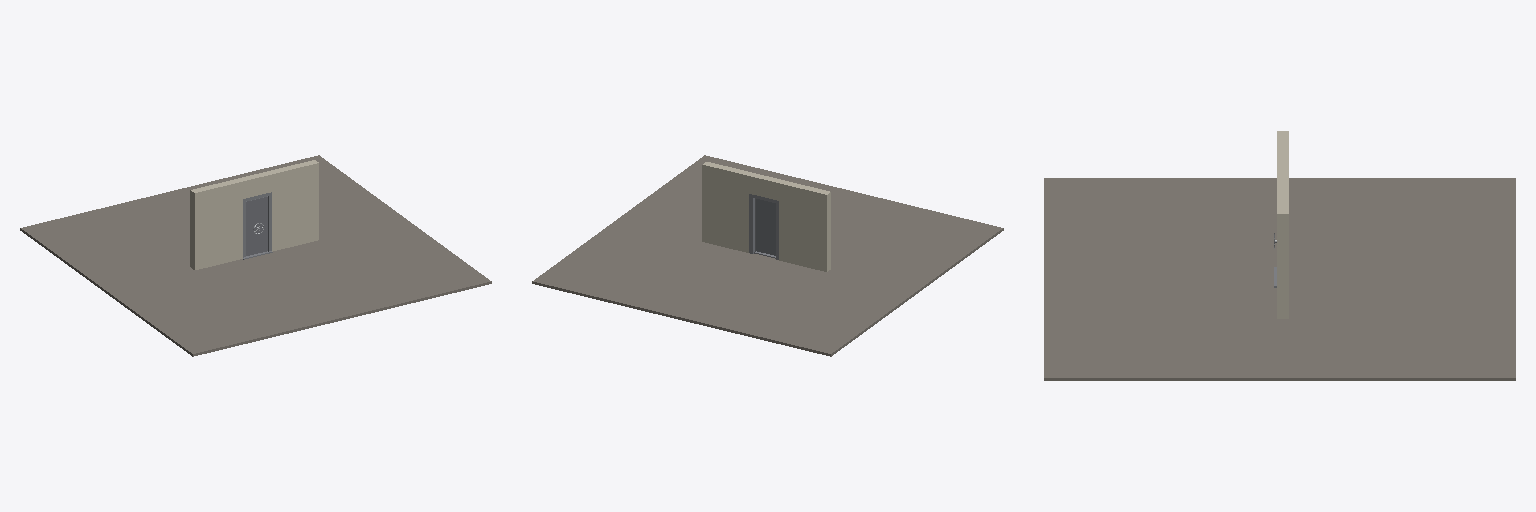
robot.urdf — db0426_vault_minimal:
<?xml version="1.0" ?>
<robot xmlns:doorbench="https://github.com/adamraudonis/DoorBench/schema/urdf-ext" name="db0426_vault_minimal">
  <link name="world_env">
    <visual name="floor_vis">
      <origin xyz="0 0 -0.05" rpy="0 0 0"/>
      <geometry>
        <box size="12 12 0.1"/>
      </geometry>
      <material name="mat_floor"/>
    </visual>
    <collision name="floor_col">
      <origin xyz="0 0 -0.05" rpy="0 0 0"/>
      <geometry>
        <box size="12 12 0.1"/>
      </geometry>
    </collision>
    <visual name="wall_left_vis">
      <origin xyz="-1.541 0.08 1.485" rpy="0 0 0"/>
      <geometry>
        <box size="1.918 0.3 2.97"/>
      </geometry>
      <material name="mat_wall"/>
    </visual>
    <collision name="wall_left_col">
      <origin xyz="-1.541 0.08 1.485" rpy="0 0 0"/>
      <geometry>
        <box size="1.918 0.3 2.97"/>
      </geometry>
    </collision>
    <visual name="wall_right_vis">
      <origin xyz="1.556 0.08 1.485" rpy="0 0 0"/>
      <geometry>
        <box size="1.888 0.3 2.97"/>
      </geometry>
      <material name="mat_wall"/>
    </visual>
    <collision name="wall_right_col">
      <origin xyz="1.556 0.08 1.485" rpy="0 0 0"/>
      <geometry>
        <box size="1.888 0.3 2.97"/>
      </geometry>
    </collision>
    <visual name="wall_header_vis">
      <origin xyz="0.015 0.08 2.645" rpy="0 0 0"/>
      <geometry>
        <box size="1.194 0.3 0.65"/>
      </geometry>
      <material name="mat_wall"/>
    </visual>
    <collision name="wall_header_col">
      <origin xyz="0.015 0.08 2.645" rpy="0 0 0"/>
      <geometry>
        <box size="1.194 0.3 0.65"/>
      </geometry>
    </collision>
    <visual name="jamb_hinge_vis">
      <origin xyz="-0.522 0.08 1.085" rpy="0 0 0"/>
      <geometry>
        <box size="0.12 0.3 2.17"/>
      </geometry>
      <material name="mat_frame"/>
    </visual>
    <collision name="jamb_hinge_col">
      <origin xyz="-0.522 0.08 1.085" rpy="0 0 0"/>
      <geometry>
        <box size="0.12 0.3 2.17"/>
      </geometry>
    </collision>
    <visual name="strike_312_wall_n_vis">
      <origin xyz="0.537 0.124 0.3125" rpy="0 0 0"/>
      <geometry>
        <box size="0.15 0.212 0.042"/>
      </geometry>
      <material name="mat_frame"/>
    </visual>
    <collision name="strike_312_wall_n_col">
      <origin xyz="0.537 0.124 0.3125" rpy="0 0 0"/>
      <geometry>
        <box size="0.15 0.212 0.042"/>
      </geometry>
    </collision>
    <visual name="strike_312_wall_p_vis">
      <origin xyz="0.537 -0.044 0.3125" rpy="0 0 0"/>
      <geometry>
        <box size="0.15 0.052 0.042"/>
      </geometry>
      <material name="mat_frame"/>
    </visual>
    <collision name="strike_312_wall_p_col">
      <origin xyz="0.537 -0.044 0.3125" rpy="0 0 0"/>
      <geometry>
        <box size="0.15 0.052 0.042"/>
      </geometry>
    </collision>
    <visual name="strike_312_back_vis">
      <origin xyz="0.567 0 0.3125" rpy="0 0 0"/>
      <geometry>
        <box size="0.09 0.036 0.042"/>
      </geometry>
      <material name="mat_frame"/>
    </visual>
    <collision name="strike_312_back_col">
      <origin xyz="0.567 0 0.3125" rpy="0 0 0"/>
      <geometry>
        <box size="0.09 0.036 0.042"/>
      </geometry>
    </collision>
    <visual name="strike_838_wall_n_vis">
      <origin xyz="0.537 0.124 0.8375" rpy="0 0 0"/>
      <geometry>
        <box size="0.15 0.212 0.042"/>
      </geometry>
      <material name="mat_frame"/>
    </visual>
    <collision name="strike_838_wall_n_col">
      <origin xyz="0.537 0.124 0.8375" rpy="0 0 0"/>
      <geometry>
        <box size="0.15 0.212 0.042"/>
      </geometry>
    </collision>
    <visual name="strike_838_wall_p_vis">
      <origin xyz="0.537 -0.044 0.8375" rpy="0 0 0"/>
      <geometry>
        <box size="0.15 0.052 0.042"/>
      </geometry>
      <material name="mat_frame"/>
    </visual>
    <collision name="strike_838_wall_p_col">
      <origin xyz="0.537 -0.044 0.8375" rpy="0 0 0"/>
      <geometry>
        <box size="0.15 0.052 0.042"/>
      </geometry>
    </collision>
    <visual name="strike_838_back_vis">
      <origin xyz="0.567 0 0.8375" rpy="0 0 0"/>
      <geometry>
        <box size="0.09 0.036 0.042"/>
      </geometry>
      <material name="mat_frame"/>
    </visual>
    <collision name="strike_838_back_col">
      <origin xyz="0.567 0 0.8375" rpy="0 0 0"/>
      <geometry>
        <box size="0.09 0.036 0.042"/>
      </geometry>
    </collision>
    <visual name="strike_1362_wall_n_vis">
      <origin xyz="0.537 0.124 1.3625" rpy="0 0 0"/>
      <geometry>
        <box size="0.15 0.212 0.042"/>
      </geometry>
      <material name="mat_frame"/>
    </visual>
    <collision name="strike_1362_wall_n_col">
      <origin xyz="0.537 0.124 1.3625" rpy="0 0 0"/>
      <geometry>
        <box size="0.15 0.212 0.042"/>
      </geometry>
    </collision>
    <visual name="strike_1362_wall_p_vis">
      <origin xyz="0.537 -0.044 1.3625" rpy="0 0 0"/>
      <geometry>
        <box size="0.15 0.052 0.042"/>
      </geometry>
      <material name="mat_frame"/>
    </visual>
    <collision name="strike_1362_wall_p_col">
      <origin xyz="0.537 -0.044 1.3625" rpy="0 0 0"/>
      <geometry>
        <box size="0.15 0.052 0.042"/>
      </geometry>
    </collision>
    <visual name="strike_1362_back_vis">
      <origin xyz="0.567 0 1.3625" rpy="0 0 0"/>
      <geometry>
        <box size="0.09 0.036 0.042"/>
      </geometry>
      <material name="mat_frame"/>
    </visual>
    <collision name="strike_1362_back_col">
      <origin xyz="0.567 0 1.3625" rpy="0 0 0"/>
      <geometry>
        <box size="0.09 0.036 0.042"/>
      </geometry>
    </collision>
    <visual name="strike_1888_wall_n_vis">
      <origin xyz="0.537 0.124 1.8875" rpy="0 0 0"/>
      <geometry>
        <box size="0.15 0.212 0.042"/>
      </geometry>
      <material name="mat_frame"/>
    </visual>
    <collision name="strike_1888_wall_n_col">
      <origin xyz="0.537 0.124 1.8875" rpy="0 0 0"/>
      <geometry>
        <box size="0.15 0.212 0.042"/>
      </geometry>
    </collision>
    <visual name="strike_1888_wall_p_vis">
      <origin xyz="0.537 -0.044 1.8875" rpy="0 0 0"/>
      <geometry>
        <box size="0.15 0.052 0.042"/>
      </geometry>
      <material name="mat_frame"/>
    </visual>
    <collision name="strike_1888_wall_p_col">
      <origin xyz="0.537 -0.044 1.8875" rpy="0 0 0"/>
      <geometry>
        <box size="0.15 0.052 0.042"/>
      </geometry>
    </collision>
    <visual name="strike_1888_back_vis">
      <origin xyz="0.567 0 1.8875" rpy="0 0 0"/>
      <geometry>
        <box size="0.09 0.036 0.042"/>
      </geometry>
      <material name="mat_frame"/>
    </visual>
    <collision name="strike_1888_back_col">
      <origin xyz="0.567 0 1.8875" rpy="0 0 0"/>
      <geometry>
        <box size="0.09 0.036 0.042"/>
      </geometry>
    </collision>
    <visual name="jamb_strike_0_vis">
      <origin xyz="0.537 0.08 0.14575" rpy="0 0 0"/>
      <geometry>
        <box size="0.15 0.3 0.2915"/>
      </geometry>
      <material name="mat_frame"/>
    </visual>
    <collision name="jamb_strike_0_col">
      <origin xyz="0.537 0.08 0.14575" rpy="0 0 0"/>
      <geometry>
        <box size="0.15 0.3 0.2915"/>
      </geometry>
    </collision>
    <visual name="jamb_strike_1_vis">
      <origin xyz="0.537 0.08 0.575" rpy="0 0 0"/>
      <geometry>
        <box size="0.15 0.3 0.483"/>
      </geometry>
      <material name="mat_frame"/>
    </visual>
    <collision name="jamb_strike_1_col">
      <origin xyz="0.537 0.08 0.575" rpy="0 0 0"/>
      <geometry>
        <box size="0.15 0.3 0.483"/>
      </geometry>
    </collision>
    <visual name="jamb_strike_2_vis">
      <origin xyz="0.537 0.08 1.1" rpy="0 0 0"/>
      <geometry>
        <box size="0.15 0.3 0.483"/>
      </geometry>
      <material name="mat_frame"/>
    </visual>
    <collision name="jamb_strike_2_col">
      <origin xyz="0.537 0.08 1.1" rpy="0 0 0"/>
      <geometry>
        <box size="0.15 0.3 0.483"/>
      </geometry>
    </collision>
    <visual name="jamb_strike_3_vis">
      <origin xyz="0.537 0.08 1.625" rpy="0 0 0"/>
      <geometry>
        <box size="0.15 0.3 0.483"/>
      </geometry>
      <material name="mat_frame"/>
    </visual>
    <collision name="jamb_strike_3_col">
      <origin xyz="0.537 0.08 1.625" rpy="0 0 0"/>
      <geometry>
        <box size="0.15 0.3 0.483"/>
      </geometry>
    </collision>
    <visual name="jamb_strike_4_vis">
      <origin xyz="0.537 0.08 2.03925" rpy="0 0 0"/>
      <geometry>
        <box size="0.15 0.3 0.2615"/>
      </geometry>
      <material name="mat_frame"/>
    </visual>
    <collision name="jamb_strike_4_col">
      <origin xyz="0.537 0.08 2.03925" rpy="0 0 0"/>
      <geometry>
        <box size="0.15 0.3 0.2615"/>
      </geometry>
    </collision>
    <visual name="jamb_head_vis">
      <origin xyz="0.015 0.08 2.23" rpy="0 0 0"/>
      <geometry>
        <box size="1.194 0.3 0.12"/>
      </geometry>
      <material name="mat_frame"/>
    </visual>
    <collision name="jamb_head_col">
      <origin xyz="0.015 0.08 2.23" rpy="0 0 0"/>
      <geometry>
        <box size="1.194 0.3 0.12"/>
      </geometry>
    </collision>
    <visual name="head_stud_vis">
      <origin xyz="0.015 0.08 2.305" rpy="0 0 0"/>
      <geometry>
        <box size="1.194 0.3 0.03"/>
      </geometry>
      <material name="mat_wall"/>
    </visual>
    <collision name="head_stud_col">
      <origin xyz="0.015 0.08 2.305" rpy="0 0 0"/>
      <geometry>
        <box size="1.194 0.3 0.03"/>
      </geometry>
    </collision>
    <visual name="stop_hinge_vis">
      <origin xyz="-0.4565 0.0665 1.085" rpy="0 0 0"/>
      <geometry>
        <box size="0.011 0.032 2.17"/>
      </geometry>
      <material name="mat_frame"/>
    </visual>
    <collision name="stop_hinge_col">
      <origin xyz="-0.4565 0.0665 1.085" rpy="0 0 0"/>
      <geometry>
        <box size="0.011 0.032 2.17"/>
      </geometry>
    </collision>
    <visual name="stop_strike_vis">
      <origin xyz="0.4565 0.0665 1.085" rpy="0 0 0"/>
      <geometry>
        <box size="0.011 0.032 2.17"/>
      </geometry>
      <material name="mat_frame"/>
    </visual>
    <collision name="stop_strike_col">
      <origin xyz="0.4565 0.0665 1.085" rpy="0 0 0"/>
      <geometry>
        <box size="0.011 0.032 2.17"/>
      </geometry>
    </collision>
    <visual name="stop_head_vis">
      <origin xyz="0 0.0665 2.1645" rpy="0 0 0"/>
      <geometry>
        <box size="0.924 0.032 0.011"/>
      </geometry>
      <material name="mat_frame"/>
    </visual>
    <collision name="stop_head_col">
      <origin xyz="0 0.0665 2.1645" rpy="0 0 0"/>
      <geometry>
        <box size="0.924 0.032 0.011"/>
      </geometry>
    </collision>
    <visual name="sill_step_vis">
      <origin xyz="0 0 0.02" rpy="0 0 0"/>
      <geometry>
        <box size="1.164 0.3 0.04"/>
      </geometry>
      <material name="mat_frame"/>
    </visual>
    <collision name="sill_step_col">
      <origin xyz="0 0 0.02" rpy="0 0 0"/>
      <geometry>
        <box size="1.164 0.3 0.04"/>
      </geometry>
    </collision>
  </link>
  <link name="leaf">
    <inertial>
      <origin xyz="0.45 0.115 1.1" rpy="0 0 0"/>
      <mass value="790.613755"/>
      <inertia ixx="291.209399686" ixy="0" ixz="0" iyy="343.91698334" iyz="0" izz="54.025273245"/>
    </inertial>
    <visual name="leaf_slab_vis">
      <origin xyz="0.45 0.115 1.1" rpy="0 0 0"/>
      <geometry>
        <box size="0.9 0.1 2.1"/>
      </geometry>
      <material name="mat_leaf"/>
    </visual>
    <collision name="leaf_slab_col">
      <origin xyz="0.45 0.115 1.1" rpy="0 0 0"/>
      <geometry>
        <box size="0.9 0.1 2.1"/>
      </geometry>
    </collision>
  </link>
  <link name="wheel">
    <inertial>
      <origin xyz="0 -0.125768 0" rpy="0 0 0"/>
      <mass value="3.780675"/>
      <inertia ixx="0.060762148" ixy="0" ixz="0" iyy="0.115744771" iyz="0" izz="0.060762148"/>
    </inertial>
    <visual name="wheel_wheel_n_vis">
      <origin xyz="0 -0.05 0" rpy="1.570796 0 0"/>
      <geometry>
        <mesh filename="../../hardware/wheel_3a0bfbe305.obj"/>
      </geometry>
      <material name="mat_op_stainless"/>
    </visual>
    <visual name="wheel_wheel_col_0_n_vis">
      <origin xyz="0.2 -0.13 0" rpy="0 0 0"/>
      <geometry>
        <sphere radius="0.015"/>
      </geometry>
      <material name="mat_op_stainless"/>
    </visual>
    <collision name="wheel_wheel_col_0_n_col">
      <origin xyz="0.2 -0.13 0" rpy="0 0 0"/>
      <geometry>
        <sphere radius="0.015"/>
      </geometry>
    </collision>
    <visual name="wheel_wheel_col_1_n_vis">
      <origin xyz="0.141421 -0.13 0.141421" rpy="0 0 0"/>
      <geometry>
        <sphere radius="0.015"/>
      </geometry>
      <material name="mat_op_stainless"/>
    </visual>
    <collision name="wheel_wheel_col_1_n_col">
      <origin xyz="0.141421 -0.13 0.141421" rpy="0 0 0"/>
      <geometry>
        <sphere radius="0.015"/>
      </geometry>
    </collision>
    <visual name="wheel_wheel_col_2_n_vis">
      <origin xyz="0 -0.13 0.2" rpy="0 0 0"/>
      <geometry>
        <sphere radius="0.015"/>
      </geometry>
      <material name="mat_op_stainless"/>
    </visual>
    <collision name="wheel_wheel_col_2_n_col">
      <origin xyz="0 -0.13 0.2" rpy="0 0 0"/>
      <geometry>
        <sphere radius="0.015"/>
      </geometry>
    </collision>
    <visual name="wheel_wheel_col_3_n_vis">
      <origin xyz="-0.141421 -0.13 0.141421" rpy="0 0 0"/>
      <geometry>
        <sphere radius="0.015"/>
      </geometry>
      <material name="mat_op_stainless"/>
    </visual>
    <collision name="wheel_wheel_col_3_n_col">
      <origin xyz="-0.141421 -0.13 0.141421" rpy="0 0 0"/>
      <geometry>
        <sphere radius="0.015"/>
      </geometry>
    </collision>
    <visual name="wheel_wheel_col_4_n_vis">
      <origin xyz="-0.2 -0.13 0" rpy="0 0 0"/>
      <geometry>
        <sphere radius="0.015"/>
      </geometry>
      <material name="mat_op_stainless"/>
    </visual>
    <collision name="wheel_wheel_col_4_n_col">
      <origin xyz="-0.2 -0.13 0" rpy="0 0 0"/>
      <geometry>
        <sphere radius="0.015"/>
      </geometry>
    </collision>
    <visual name="wheel_wheel_col_5_n_vis">
      <origin xyz="-0.141421 -0.13 -0.141421" rpy="0 0 0"/>
      <geometry>
        <sphere radius="0.015"/>
      </geometry>
      <material name="mat_op_stainless"/>
    </visual>
    <collision name="wheel_wheel_col_5_n_col">
      <origin xyz="-0.141421 -0.13 -0.141421" rpy="0 0 0"/>
      <geometry>
        <sphere radius="0.015"/>
      </geometry>
    </collision>
    <visual name="wheel_wheel_col_6_n_vis">
      <origin xyz="0 -0.13 -0.2" rpy="0 0 0"/>
      <geometry>
        <sphere radius="0.015"/>
      </geometry>
      <material name="mat_op_stainless"/>
    </visual>
    <collision name="wheel_wheel_col_6_n_col">
      <origin xyz="0 -0.13 -0.2" rpy="0 0 0"/>
      <geometry>
        <sphere radius="0.015"/>
      </geometry>
    </collision>
    <visual name="wheel_wheel_col_7_n_vis">
      <origin xyz="0.141421 -0.13 -0.141421" rpy="0 0 0"/>
      <geometry>
        <sphere radius="0.015"/>
      </geometry>
      <material name="mat_op_stainless"/>
    </visual>
    <collision name="wheel_wheel_col_7_n_col">
      <origin xyz="0.141421 -0.13 -0.141421" rpy="0 0 0"/>
      <geometry>
        <sphere radius="0.015"/>
      </geometry>
    </collision>
  </link>
  <link name="bolt_0">
    <inertial>
      <origin xyz="-0.013 0 0" rpy="0 0 0"/>
      <mass value="0.778646"/>
      <inertia ixx="0.000096219" ixy="0" ixz="0" iyy="0.001046061" iyz="0" izz="0.001046061"/>
    </inertial>
    <visual name="bolt_0_geom_vis">
      <origin xyz="-0.013 0 0" rpy="0 1.570796 0"/>
      <geometry>
        <cylinder radius="0.016" length="0.102"/>
      </geometry>
      <material name="mat_vault_bolt"/>
    </visual>
    <collision name="bolt_0_geom_col">
      <origin xyz="-0.013 0 0" rpy="0 1.570796 0"/>
      <geometry>
        <cylinder radius="0.016" length="0.102"/>
      </geometry>
    </collision>
  </link>
  <link name="bolt_1">
    <inertial>
      <origin xyz="-0.013 0 0" rpy="0 0 0"/>
      <mass value="0.778646"/>
      <inertia ixx="0.000096219" ixy="0" ixz="0" iyy="0.001046061" iyz="0" izz="0.001046061"/>
    </inertial>
    <visual name="bolt_1_geom_vis">
      <origin xyz="-0.013 0 0" rpy="0 1.570796 0"/>
      <geometry>
        <cylinder radius="0.016" length="0.102"/>
      </geometry>
      <material name="mat_vault_bolt"/>
    </visual>
    <collision name="bolt_1_geom_col">
      <origin xyz="-0.013 0 0" rpy="0 1.570796 0"/>
      <geometry>
        <cylinder radius="0.016" length="0.102"/>
      </geometry>
    </collision>
  </link>
  <link name="bolt_2">
    <inertial>
      <origin xyz="-0.013 0 0" rpy="0 0 0"/>
      <mass value="0.778646"/>
      <inertia ixx="0.000096219" ixy="0" ixz="0" iyy="0.001046061" iyz="0" izz="0.001046061"/>
    </inertial>
    <visual name="bolt_2_geom_vis">
      <origin xyz="-0.013 0 0" rpy="0 1.570796 0"/>
      <geometry>
        <cylinder radius="0.016" length="0.102"/>
      </geometry>
      <material name="mat_vault_bolt"/>
    </visual>
    <collision name="bolt_2_geom_col">
      <origin xyz="-0.013 0 0" rpy="0 1.570796 0"/>
      <geometry>
        <cylinder radius="0.016" length="0.102"/>
      </geometry>
    </collision>
  </link>
  <link name="bolt_3">
    <inertial>
      <origin xyz="-0.013 0 0" rpy="0 0 0"/>
      <mass value="0.778646"/>
      <inertia ixx="0.000096219" ixy="0" ixz="0" iyy="0.001046061" iyz="0" izz="0.001046061"/>
    </inertial>
    <visual name="bolt_3_geom_vis">
      <origin xyz="-0.013 0 0" rpy="0 1.570796 0"/>
      <geometry>
        <cylinder radius="0.016" length="0.102"/>
      </geometry>
      <material name="mat_vault_bolt"/>
    </visual>
    <collision name="bolt_3_geom_col">
      <origin xyz="-0.013 0 0" rpy="0 1.570796 0"/>
      <geometry>
        <cylinder radius="0.016" length="0.102"/>
      </geometry>
    </collision>
  </link>
  <joint name="leaf_hinge" type="revolute">
    <origin xyz="-0.456 -0.115 0" rpy="0 0 0"/>
    <parent link="world_env"/>
    <child link="leaf"/>
    <axis xyz="0 0 -1"/>
    <limit lower="0" upper="1.745329" effort="2000" velocity="10"/>
    <dynamics damping="0.298832" friction="14.534516"/>
    <doorbench:closer damping_closing="0" damping_opening="0" backcheck_angle="0" backcheck_damping="0"/>
  </joint>
  <joint name="wheel_hinge" type="revolute">
    <origin xyz="0.495 0.115 1.05" rpy="0 0 0"/>
    <parent link="leaf"/>
    <child link="wheel"/>
    <axis xyz="0 -1 0"/>
    <limit lower="0" upper="6.2832" effort="2000" velocity="10"/>
    <dynamics damping="0.5" friction="5"/>
  </joint>
  <joint name="bolt_0_slide" type="prismatic">
    <origin xyz="0.9 0.115 0.3125" rpy="0 0 0"/>
    <parent link="leaf"/>
    <child link="bolt_0"/>
    <axis xyz="-1 0 0"/>
    <limit lower="0" upper="0.054" effort="5000" velocity="10"/>
    <dynamics damping="20" friction="25"/>
    <mimic joint="wheel_hinge" multiplier="0.008594" offset="0"/>
  </joint>
  <joint name="bolt_1_slide" type="prismatic">
    <origin xyz="0.9 0.115 0.8375" rpy="0 0 0"/>
    <parent link="leaf"/>
    <child link="bolt_1"/>
    <axis xyz="-1 0 0"/>
    <limit lower="0" upper="0.054" effort="5000" velocity="10"/>
    <dynamics damping="20" friction="25"/>
    <mimic joint="wheel_hinge" multiplier="0.008594" offset="0"/>
  </joint>
  <joint name="bolt_2_slide" type="prismatic">
    <origin xyz="0.9 0.115 1.3625" rpy="0 0 0"/>
    <parent link="leaf"/>
    <child link="bolt_2"/>
    <axis xyz="-1 0 0"/>
    <limit lower="0" upper="0.054" effort="5000" velocity="10"/>
    <dynamics damping="20" friction="25"/>
    <mimic joint="wheel_hinge" multiplier="0.008594" offset="0"/>
  </joint>
  <joint name="bolt_3_slide" type="prismatic">
    <origin xyz="0.9 0.115 1.8875" rpy="0 0 0"/>
    <parent link="leaf"/>
    <child link="bolt_3"/>
    <axis xyz="-1 0 0"/>
    <limit lower="0" upper="0.054" effort="5000" velocity="10"/>
    <dynamics damping="20" friction="25"/>
    <mimic joint="wheel_hinge" multiplier="0.008594" offset="0"/>
  </joint>
  <material name="mat_floor">
    <color rgba="0.55 0.53 0.5 1"/>
  </material>
  <material name="mat_frame">
    <color rgba="0.55 0.56 0.58 1"/>
  </material>
  <material name="mat_leaf">
    <color rgba="0.5 0.51 0.53 1"/>
  </material>
  <material name="mat_op_stainless">
    <color rgba="0.75 0.76 0.77 1"/>
  </material>
  <material name="mat_vault_bolt">
    <color rgba="0.75 0.76 0.77 1"/>
  </material>
  <material name="mat_wall">
    <color rgba="0.78 0.76 0.7 1"/>
  </material>
</robot>

--- Render facts (derived) ---
3 views of the same robot in one strip: view 1: azimuth 30°, elevation 25°; view 2: azimuth 150°, elevation 25°; view 3: azimuth 270°, elevation 25° (orthographic).
Robot: db0426_vault_minimal — 7 links, 6 joints (2 revolute, 4 prismatic); root link world_env; default pose: every joint at zero.
Visible links, largest first — view 1: world_env, leaf; view 2: world_env, leaf; view 3: world_env.
Boxes of the visible links, left/top/right/bottom form: world_env: left=20, top=155, right=491, bottom=356; leaf: left=246, top=196, right=267, bottom=255; world_env: left=532, top=155, right=1003, bottom=356; leaf: left=756, top=199, right=775, bottom=255; world_env: left=1044, top=131, right=1515, bottom=380.
Size in the robot's own frame: 12 by 12 by 3.07 metres.
Meshes: 1 distinct files referenced, 1 mesh visuals loaded (1 OBJ).
